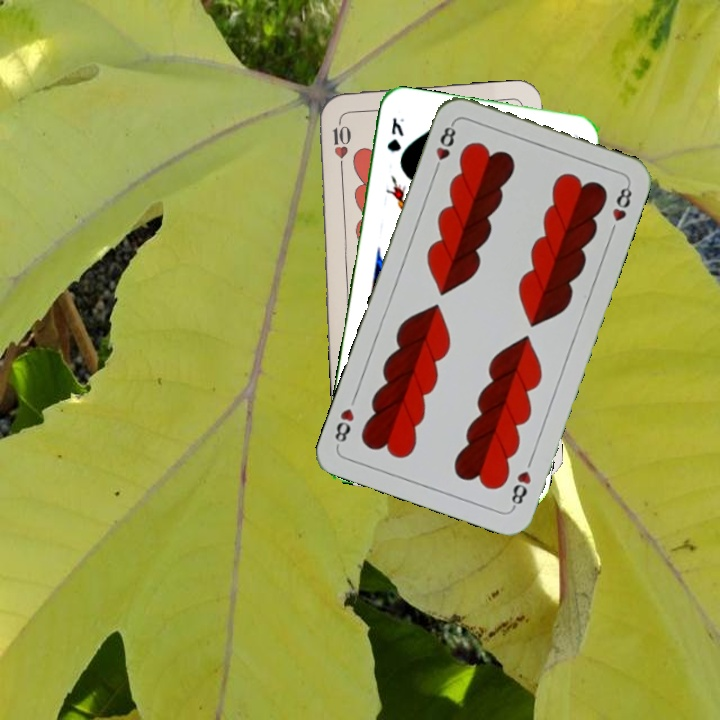GK: (383, 113, 407, 154)
H10: (329, 115, 351, 174)
H8: (430, 119, 459, 176), (507, 466, 534, 511)
